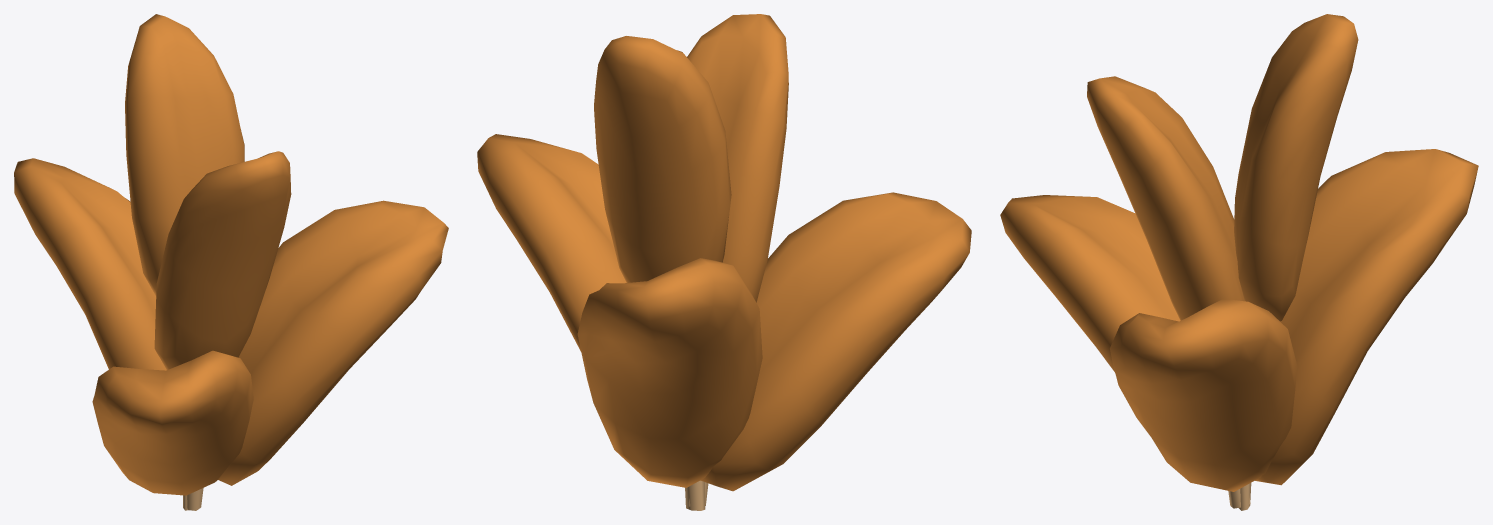
File: Herb_B_01.fbx
The picture shows the model from 3 angles, left to right: view 1: azimuth 30°, elevation 25°; view 2: azimuth 150°, elevation 25°; view 3: azimuth 270°, elevation 25°; orthographic projection. The views are drawn at different scales.
Parts seen in each view (by area): view 1: Herb_B_01_LOD0; view 2: Herb_B_01_LOD0; view 3: Herb_B_01_LOD0.
Boxes of the visible parts, x1=… form: Herb_B_01_LOD0: x1=14, y1=14, x2=448, y2=510; Herb_B_01_LOD0: x1=477, y1=14, x2=971, y2=510; Herb_B_01_LOD0: x1=1000, y1=14, x2=1478, y2=510.
Size of what is drawn, in the model's own units: 336 by 385 by 337.
